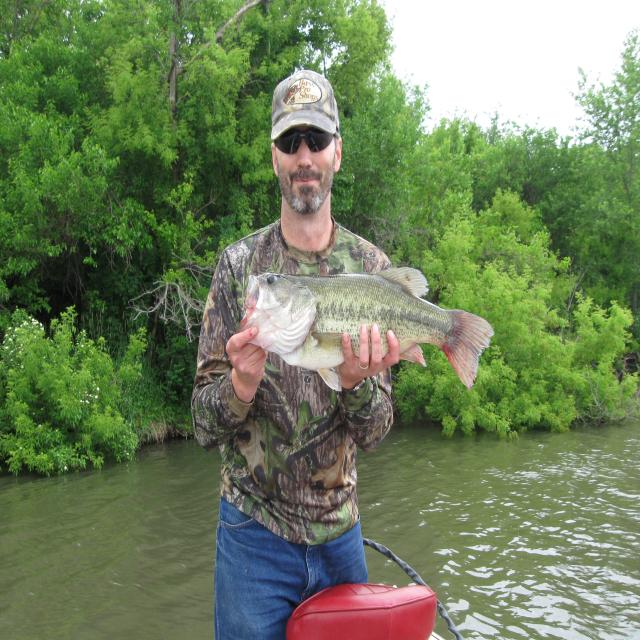Bass - Largemouth: (238, 267, 494, 391)
